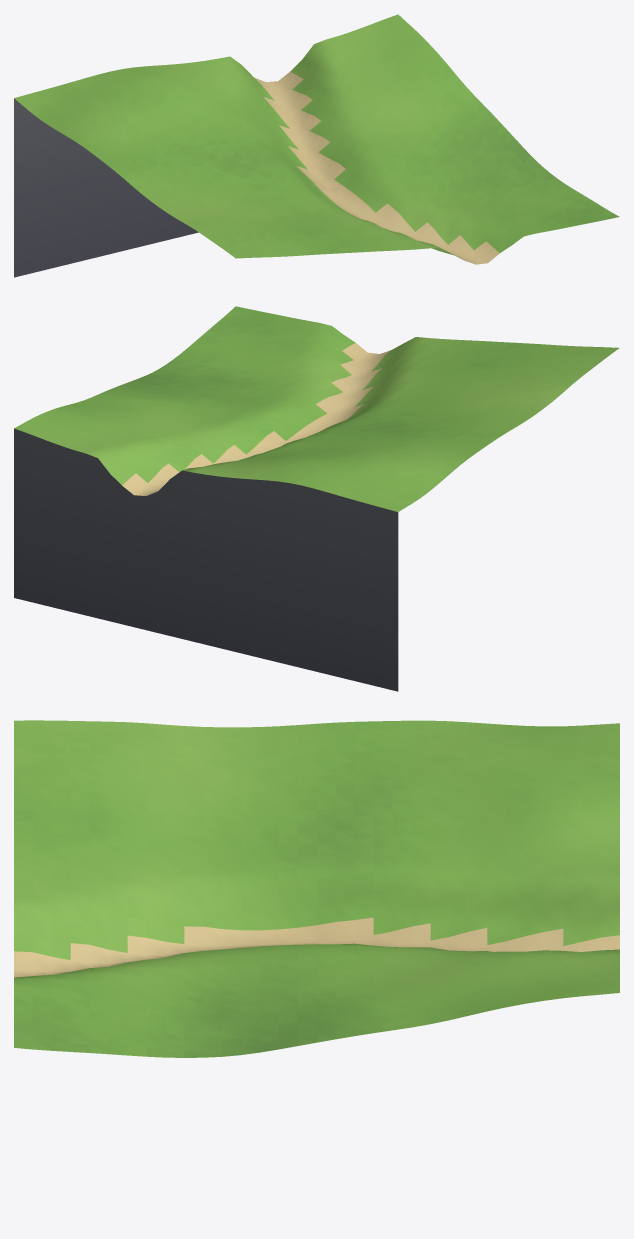
Rendered from terrain_r5_c4.glb.
3 renders of one model, top to bottom at view 1: azimuth 30°, elevation 25°; view 2: azimuth 150°, elevation 25°; view 3: azimuth 270°, elevation 25°, orthographic. The views are drawn at different scales.
Parts seen in each view (by area): view 1: terrain_r5_c4; view 2: terrain_r5_c4; view 3: terrain_r5_c4.
Boxes of the visible parts, <box> form: terrain_r5_c4: <box>14,14,619,277</box>; terrain_r5_c4: <box>14,306,619,691</box>; terrain_r5_c4: <box>14,720,619,1057</box>.
Bounding box in the file's own units: 128 × 58.65 × 128.
Materials: 1 (1 with a texture image).
